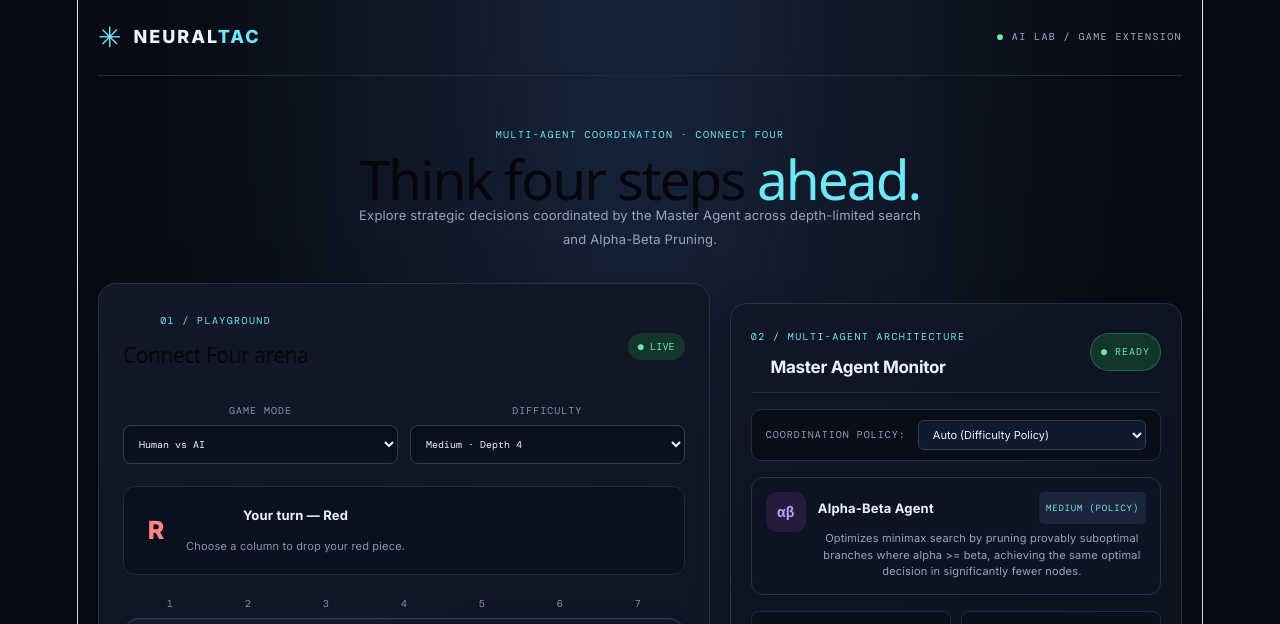
Test: React game UI › records Connect Four match totals and game length from completed AI play
The width and height of the screenshot is (1280, 624).
Select "AI vs AI" in the dropdown labelled "GAME MODE" at (260, 444), box top-left (123, 425), bottom-right (398, 464)
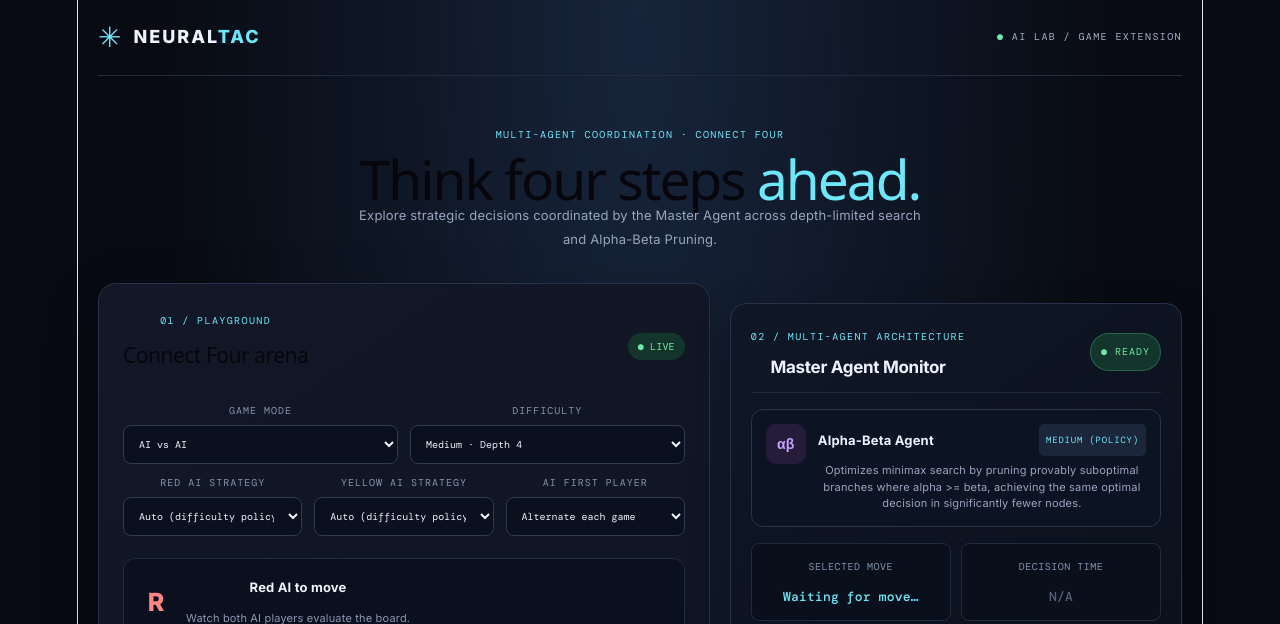
Select "Random" in the dropdown labelled "RED AI STRATEGY" at (213, 516), box top-left (123, 497), bottom-right (302, 536)
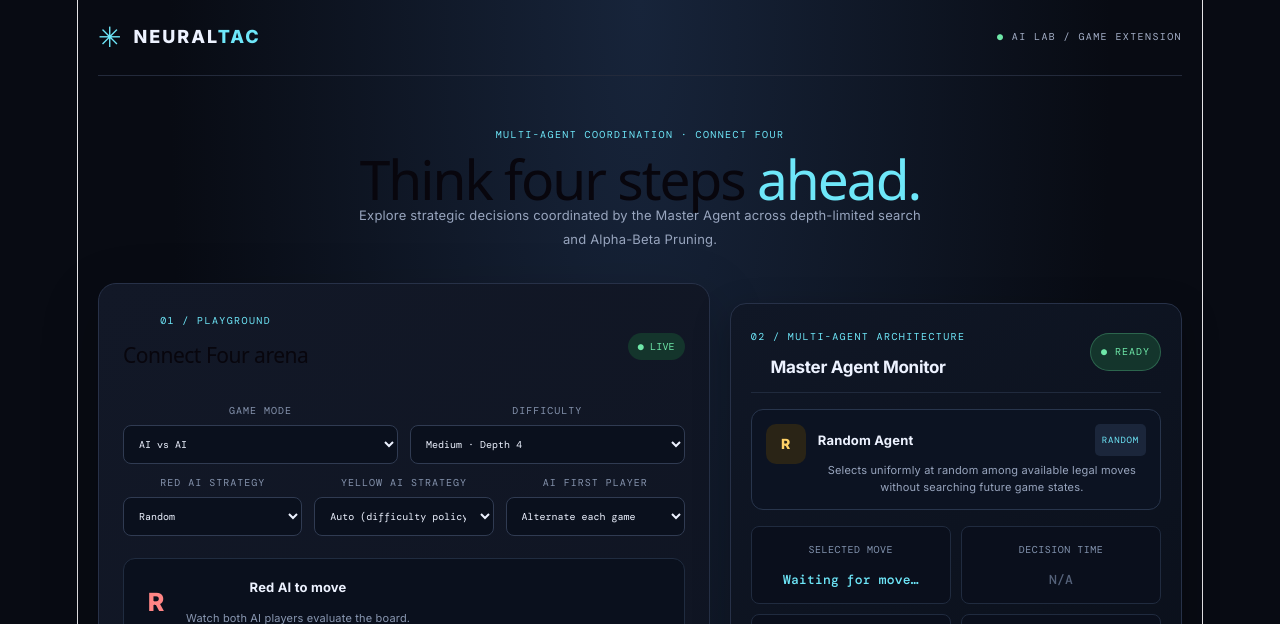
Select "Random" in the dropdown labelled "YELLOW AI STRATEGY" at (404, 516), box top-left (314, 497), bottom-right (494, 536)
Wait 10500 ms
(page scrolled)
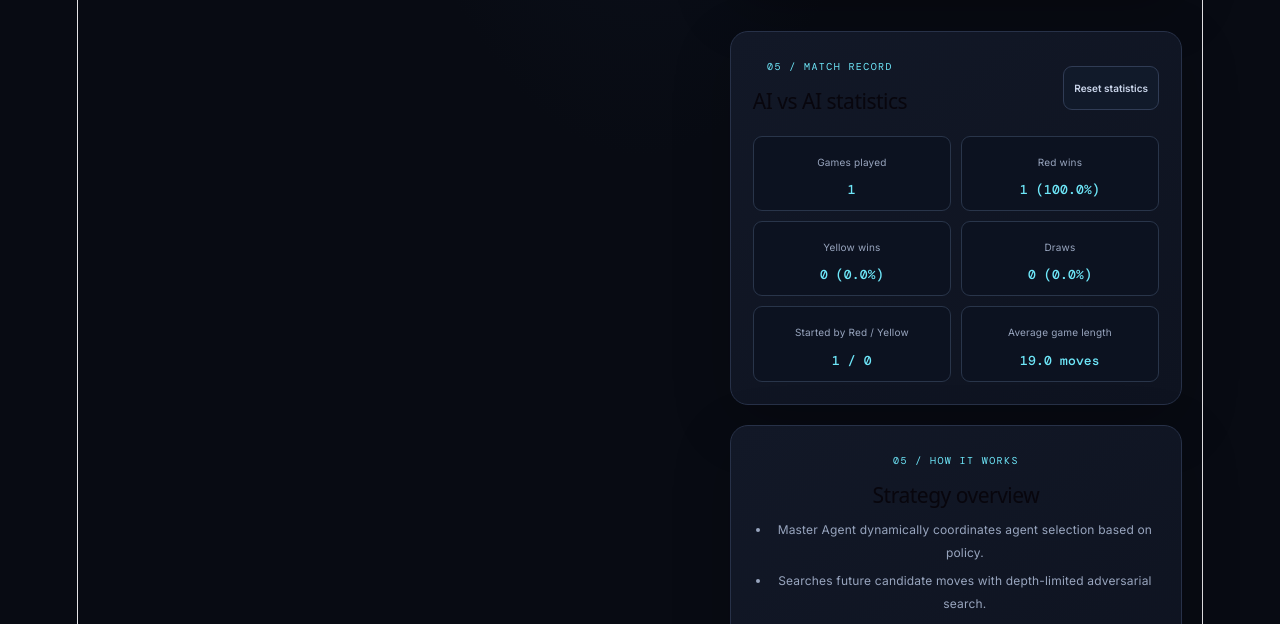
Expected: the text "1" is shown, top-left (848, 181), bottom-right (856, 198)
Expected: the text "1 (100.0%)" is shown, top-left (1020, 181), bottom-right (1100, 198)
Expected: the text "19.0 moves" is shown, top-left (1020, 352), bottom-right (1100, 368)
